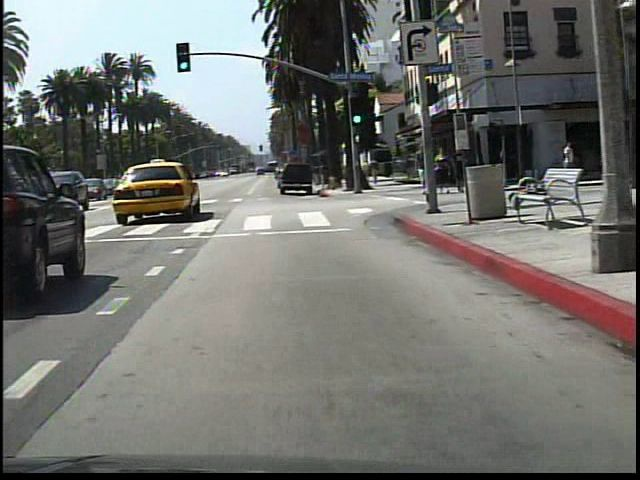person: (413, 145, 430, 198), (559, 138, 575, 184)
